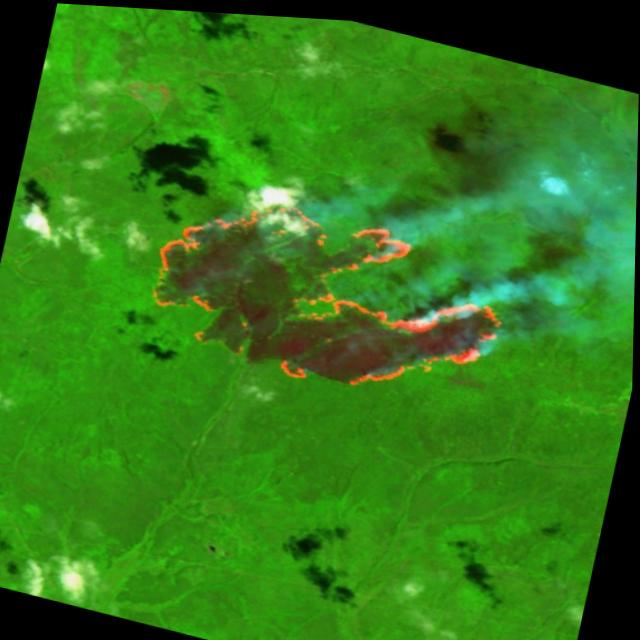fire: (120, 166, 529, 432)
